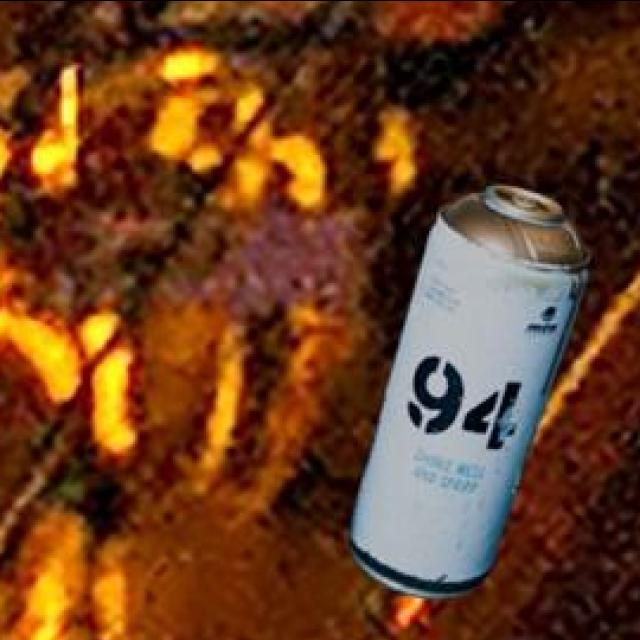logam: (354, 181, 594, 594)
